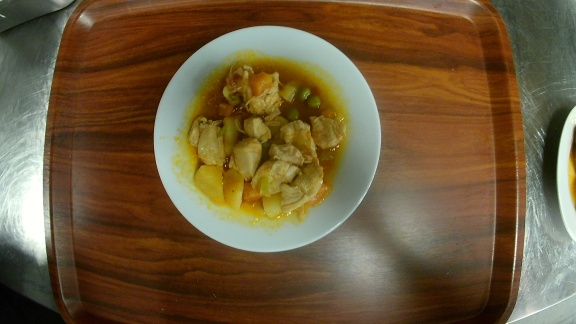bezelyelitavuk: (151, 24, 383, 255)
